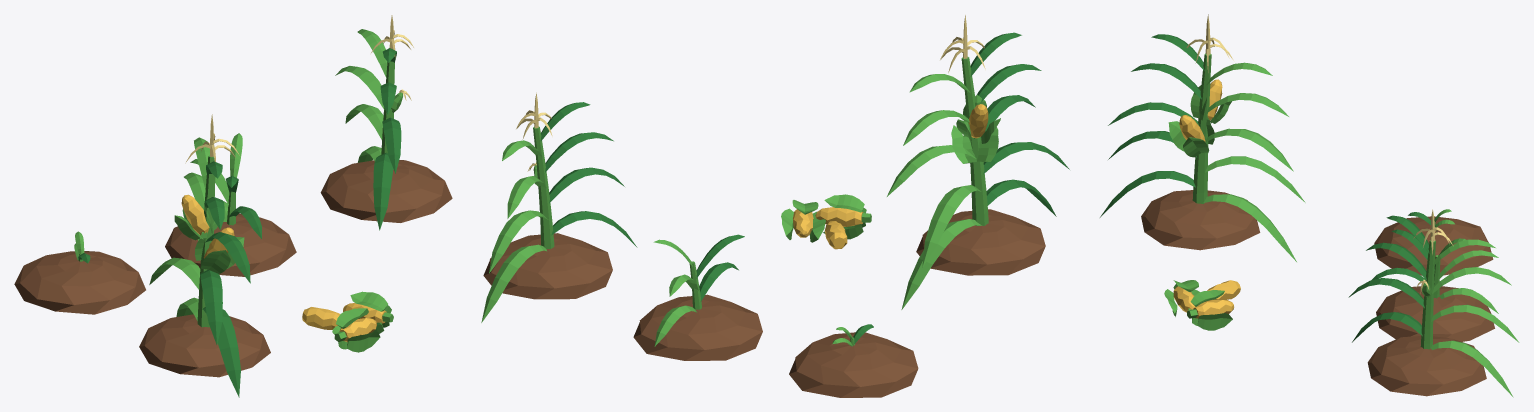
File: corn-growth-stages.glb
The picture shows the model from 3 angles, left to right: view 1: azimuth 30°, elevation 25°; view 2: azimuth 150°, elevation 25°; view 3: azimuth 270°, elevation 25°; orthographic projection. The views are drawn at different scales.
Parts seen in each view (by area): view 1: Corn_Stage4, Corn_Stage3, Corn_Stage1, Corn_Stage2, Corn_Cobs_Fallen; view 2: Corn_Stage4, Corn_Stage3, Corn_Stage2, Corn_Stage1, Corn_Cobs_Fallen; view 3: Corn_Stage4, Corn_Stage3, Corn_Stage2, Corn_Stage1, Corn_Cobs_Fallen.
Boxes of the visible parts, x1,y1,x2,y2 form: Corn_Stage4: (139,114,270,397); Corn_Stage3: (320,15,452,230); Corn_Stage1: (14,231,145,314); Corn_Stage2: (165,133,296,276); Corn_Cobs_Fallen: (302,291,393,352); Corn_Stage4: (887,15,1069,309); Corn_Stage3: (481,92,637,322); Corn_Stage2: (633,234,762,360); Corn_Stage1: (789,324,918,397); Corn_Cobs_Fallen: (781,194,871,249); Corn_Stage4: (1100,14,1305,261); Corn_Stage3: (1348,209,1519,397); Corn_Stage2: (1371,229,1498,341); Corn_Stage1: (1374,209,1493,275); Corn_Cobs_Fallen: (1164,280,1240,330).
Size of the model in its own units: 12.64 by 7.53 by 11.86.
